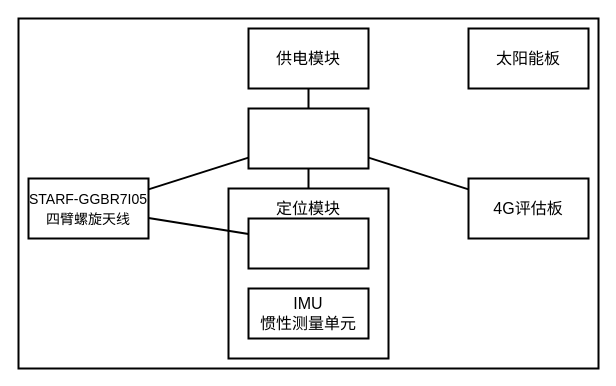
The diagram is 616 pixels wide and 386 high, and some of its shapes have lost their labels. Here are the shapes that lost their labels. From the top down, the box of each, then its label:
(247, 107, 369, 169): 主控模块 stm32
(247, 217, 369, 269): WTRTK-960 定位模组
